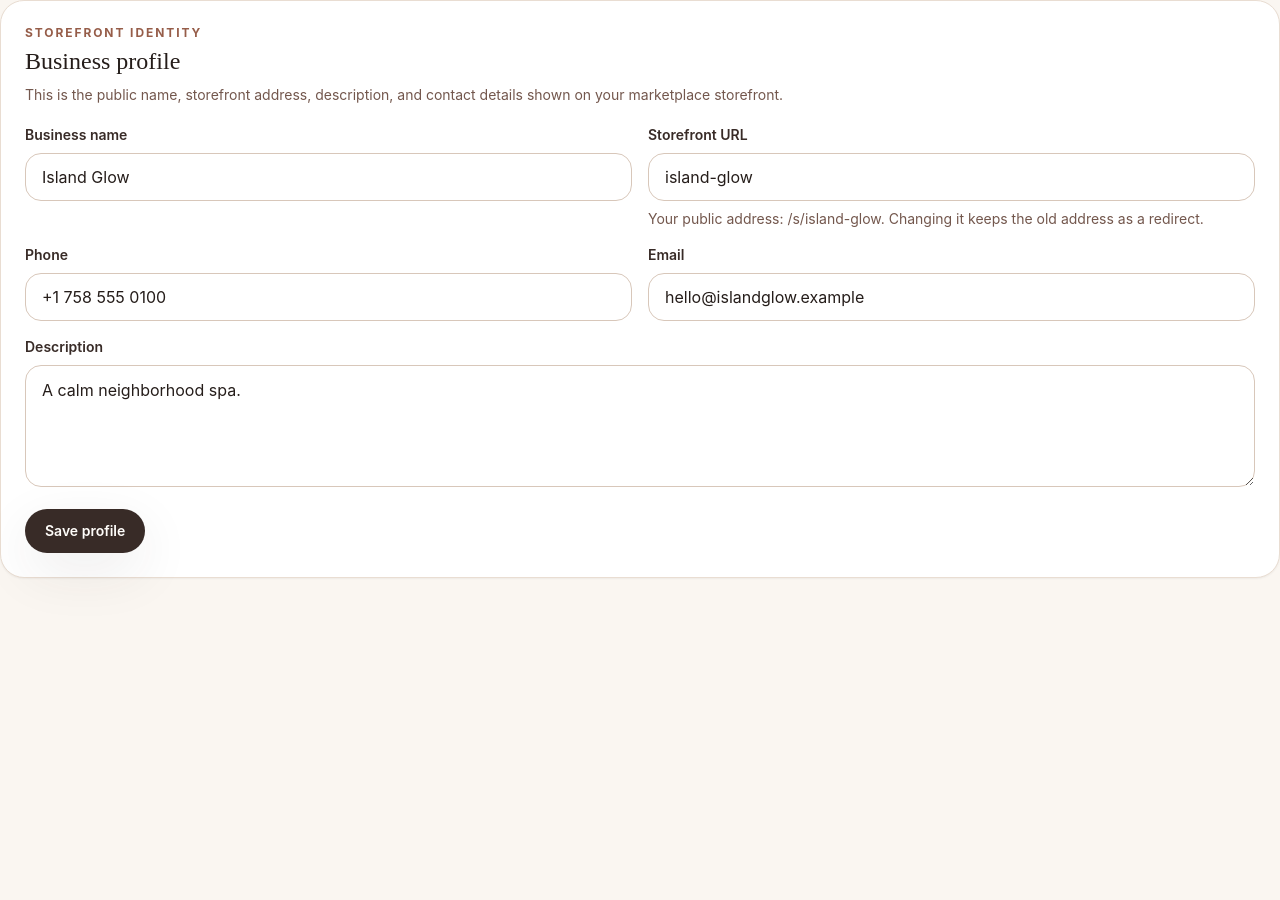
it: BusinessProfileForm › announces field errors semantically and keeps entered values
Step 1. Replace the text in the field labelled "Business name" with "Renamed Spa" → (328, 177), box x1=25 y1=153 x2=632 y2=201
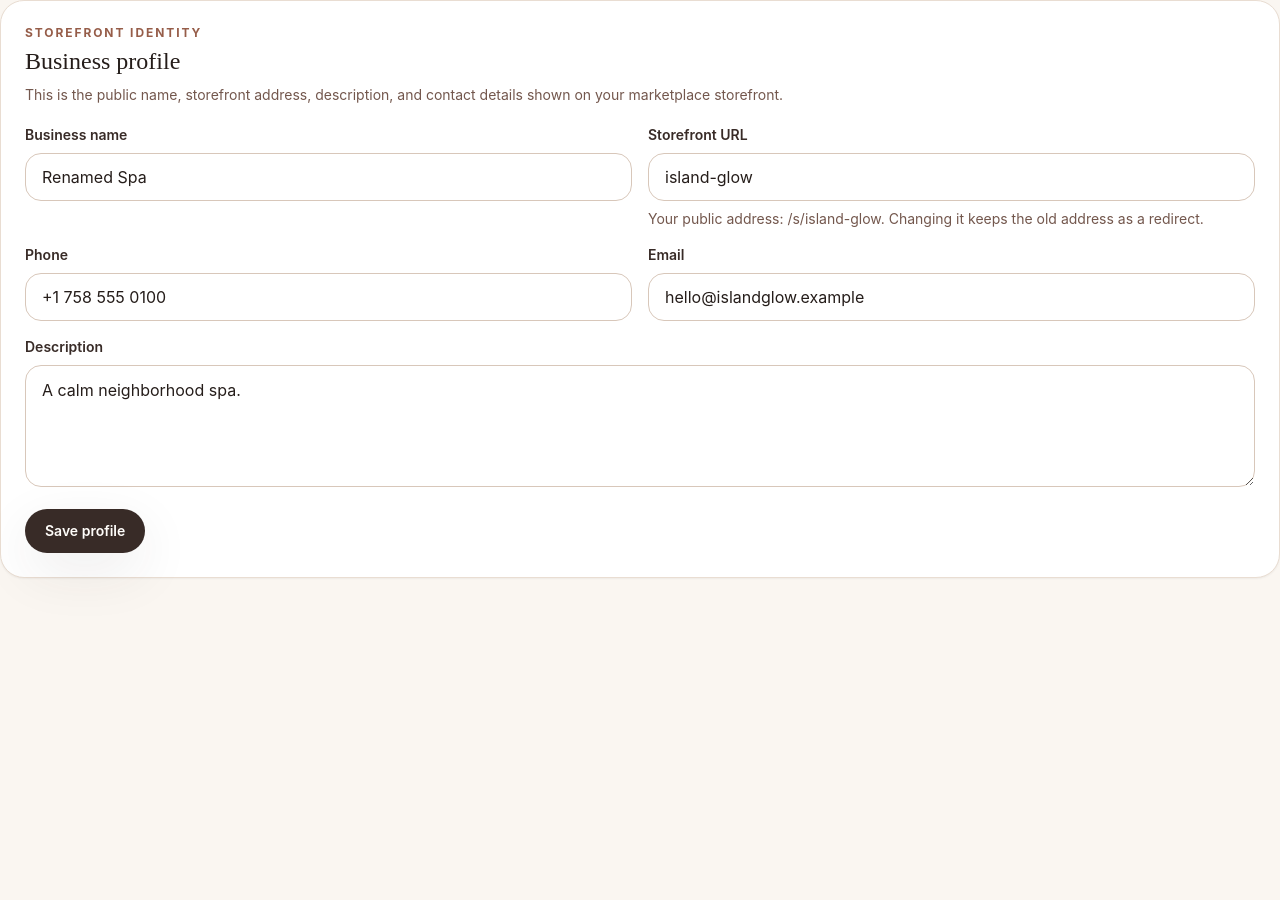
Step 2. Submit the form named "business profile", box x1=25 y1=125 x2=1255 y2=553
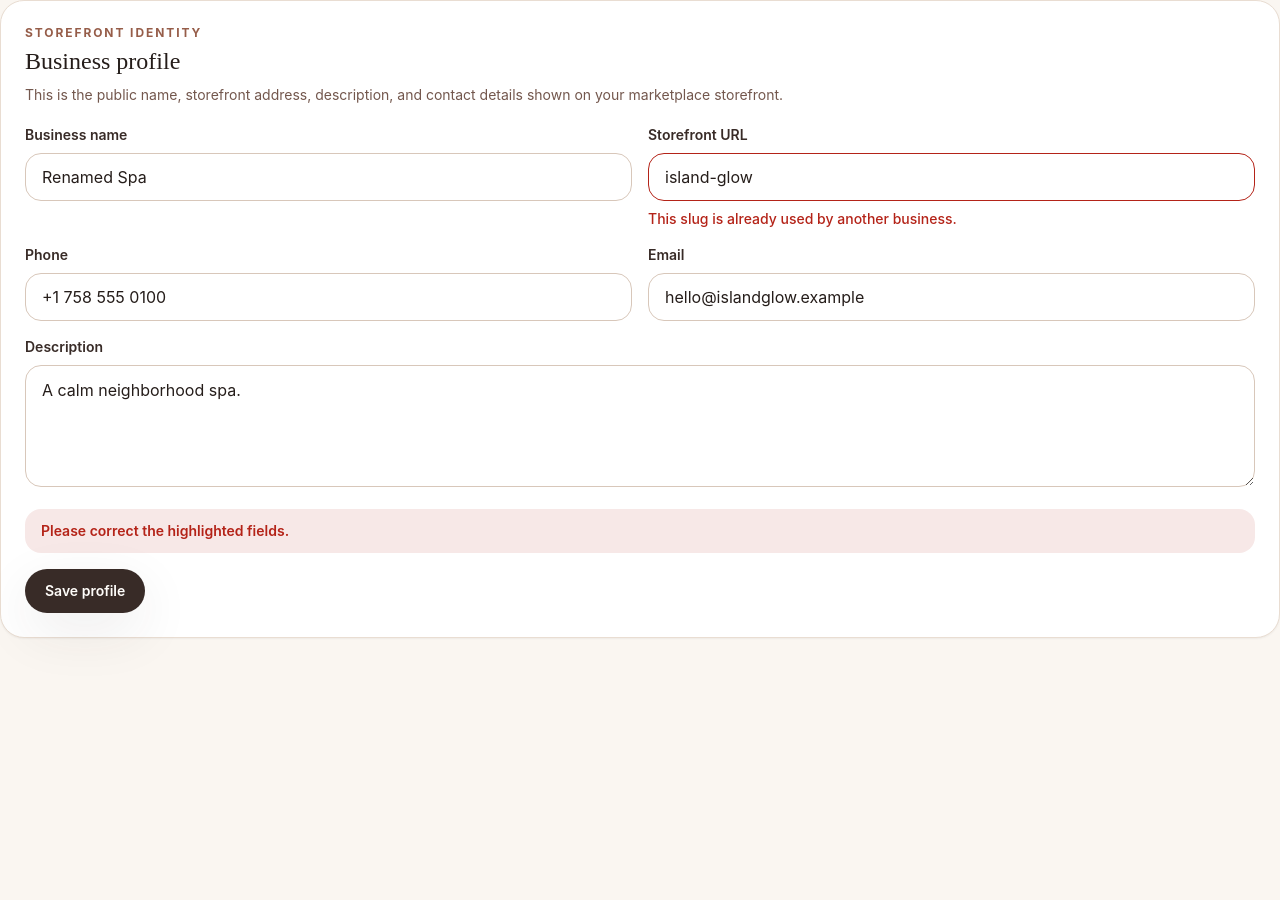
Check: the message reads "Please correct the highlighted fields.", box x1=41 y1=522 x2=289 y2=539
Check: the text "This slug is already used by another business." is shown, box x1=648 y1=210 x2=957 y2=227
